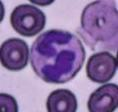N: (30, 29, 84, 83)
